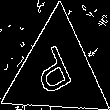P_SE: (32, 40, 82, 102)
